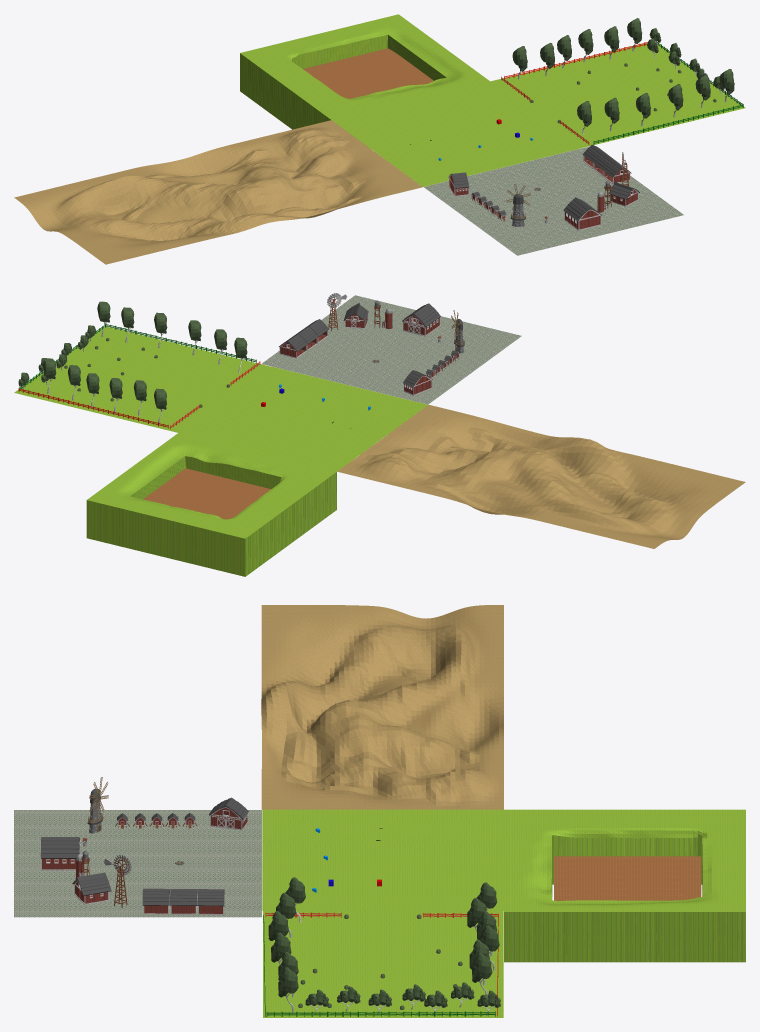
3 renders of one model, top to bottom at view 1: azimuth 30°, elevation 25°; view 2: azimuth 150°, elevation 25°; view 3: azimuth 270°, elevation 25°, orthographic. The views are drawn at different scales.
Parts seen in each view (by area): view 1: dessert, ground, lakeGround, forest, village, lake, Barn, smallBarn, TowerWindmill_Cylinder.008, Fence.001, OpenBarn_Cube.045, Barn_Door_Cube.002; view 2: dessert, lakeGround, ground, forest, village, lake, Barn, Barn_Door_Cube.002, smallBarn, OpenBarn_Cube.001, Fence; view 3: dessert, lakeGround, ground, forest, village, lake, Barn, Barn_Door_Cube.002, smallBarn, Fence.002, OpenBarn_Cube.045, OpenBarn_Cube.001 (+2 smaller).
Boxes of the visible parts, box(x1,y1,x2,y2) form: dessert: box(14, 120, 422, 264); ground: box(329, 80, 579, 186); lakeGround: box(240, 14, 489, 134); forest: box(489, 42, 745, 148); village: box(424, 146, 683, 255); lake: box(303, 48, 433, 98); Barn: box(563, 197, 601, 230); smallBarn: box(608, 182, 639, 206); TowerWindmill_Cylinder.008: box(506, 184, 530, 226); Fence.001: box(593, 104, 743, 144); OpenBarn_Cube.045: box(603, 160, 631, 184); Barn_Door_Cube.002: box(448, 172, 469, 196); dessert: box(337, 404, 745, 548); lakeGround: box(86, 433, 336, 576); ground: box(177, 366, 427, 473); forest: box(14, 326, 270, 433); village: box(262, 295, 521, 404); lake: box(143, 468, 271, 519); Barn: box(402, 303, 440, 336); Barn_Door_Cube.002: box(403, 370, 432, 395); smallBarn: box(343, 303, 368, 328); OpenBarn_Cube.001: box(279, 334, 307, 358); Fence: box(18, 388, 168, 428); dessert: box(261, 605, 503, 809); lakeGround: box(504, 809, 745, 962); ground: box(262, 809, 510, 910); forest: box(263, 910, 503, 1017); village: box(14, 810, 261, 917); lake: box(554, 856, 701, 900); Barn: box(40, 837, 80, 870); Barn_Door_Cube.002: box(209, 797, 248, 830); smallBarn: box(72, 872, 111, 904); Fence.002: box(266, 1011, 495, 1016); OpenBarn_Cube.045: box(142, 888, 169, 914); OpenBarn_Cube.001: box(197, 889, 224, 914).
Bounding box in the file's own units: 404 × 47.2 × 302.
243 materials, 6 textured.
